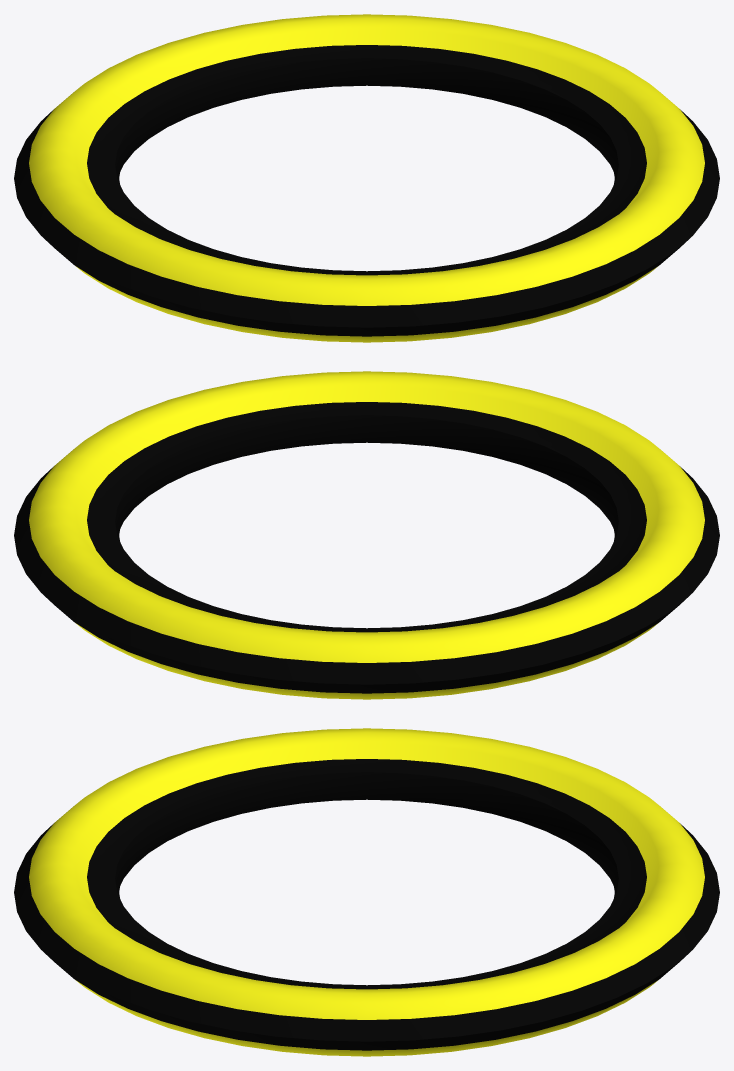
Rendered from RingGate.fbx.
3 renders of one model, top to bottom at view 1: azimuth 30°, elevation 25°; view 2: azimuth 150°, elevation 25°; view 3: azimuth 270°, elevation 25°, orthographic.
Visible parts, largest first — view 1: RingGate; view 2: RingGate; view 3: RingGate.
Boxes of the visible parts, <box> form: RingGate: <box>14,14,719,342</box>; RingGate: <box>14,371,719,699</box>; RingGate: <box>14,728,719,1056</box>.
Size of the model in its own units: 503 by 46.95 by 503.
